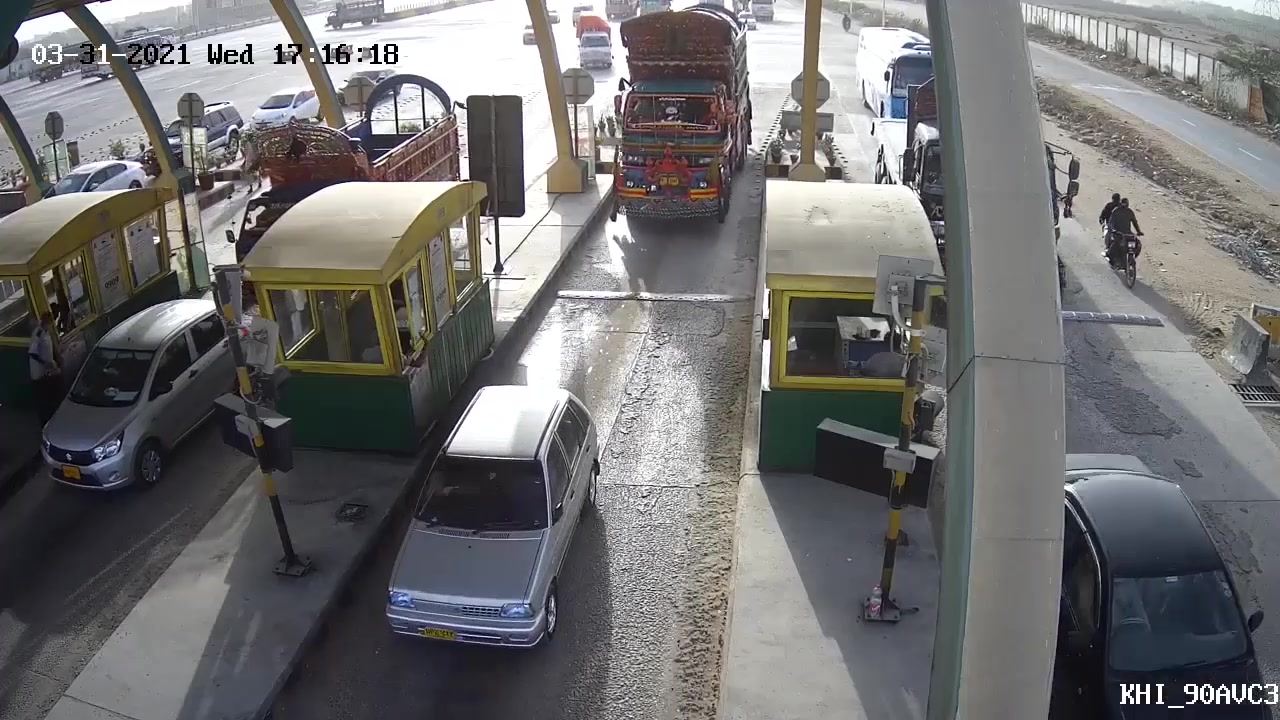F1: (363, 374, 608, 659)
F5: (609, 2, 759, 228)
